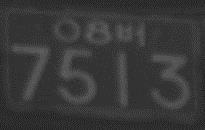0: (52, 17, 81, 44)
1: (106, 50, 139, 107)
3: (150, 52, 191, 111)
5: (55, 48, 97, 106)
7: (9, 44, 49, 102)
8: (84, 18, 112, 46)
버: (115, 20, 146, 48)
